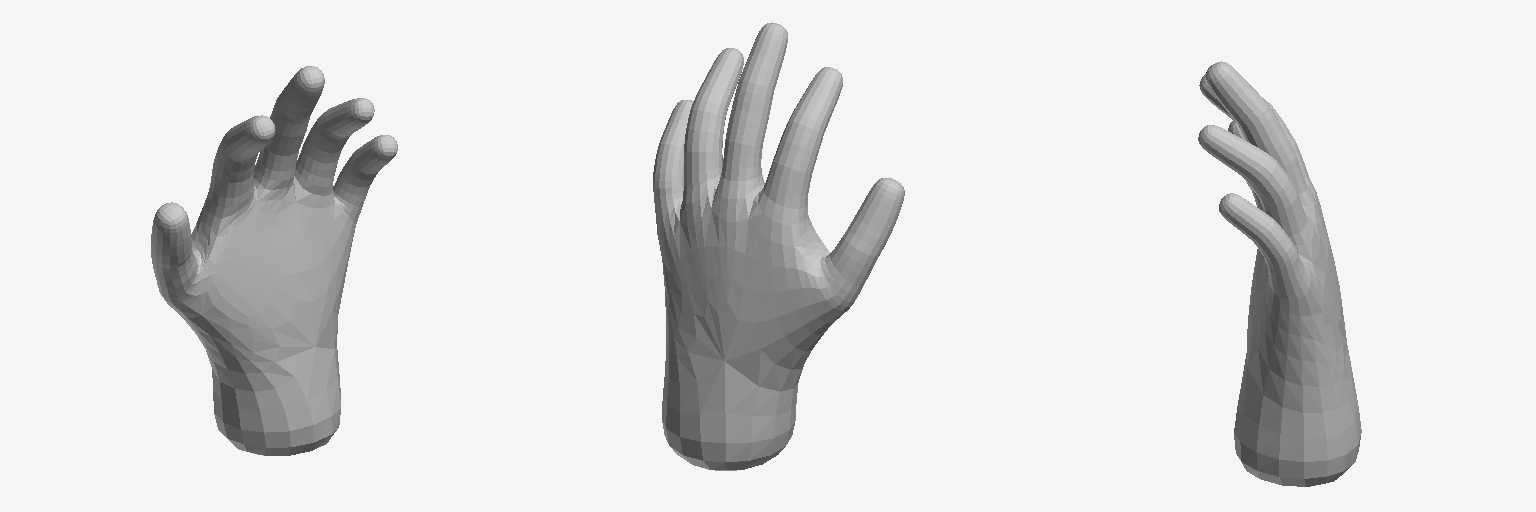
Rendered from handanimatsion10.obj.
3 views of the same model, side by side, from view 1: azimuth 30°, elevation 25°; view 2: azimuth 150°, elevation 25°; view 3: azimuth 270°, elevation 25° (orthographic).
Visible parts, largest first — view 1: Cube; view 2: Cube; view 3: Cube.
Boxes of the visible parts, x1,y1,x2,y2 form: Cube: [151, 66, 397, 455]; Cube: [653, 22, 904, 470]; Cube: [1198, 61, 1361, 486].
Bounding box in the file's own units: 3.72 × 6.24 × 2.26.